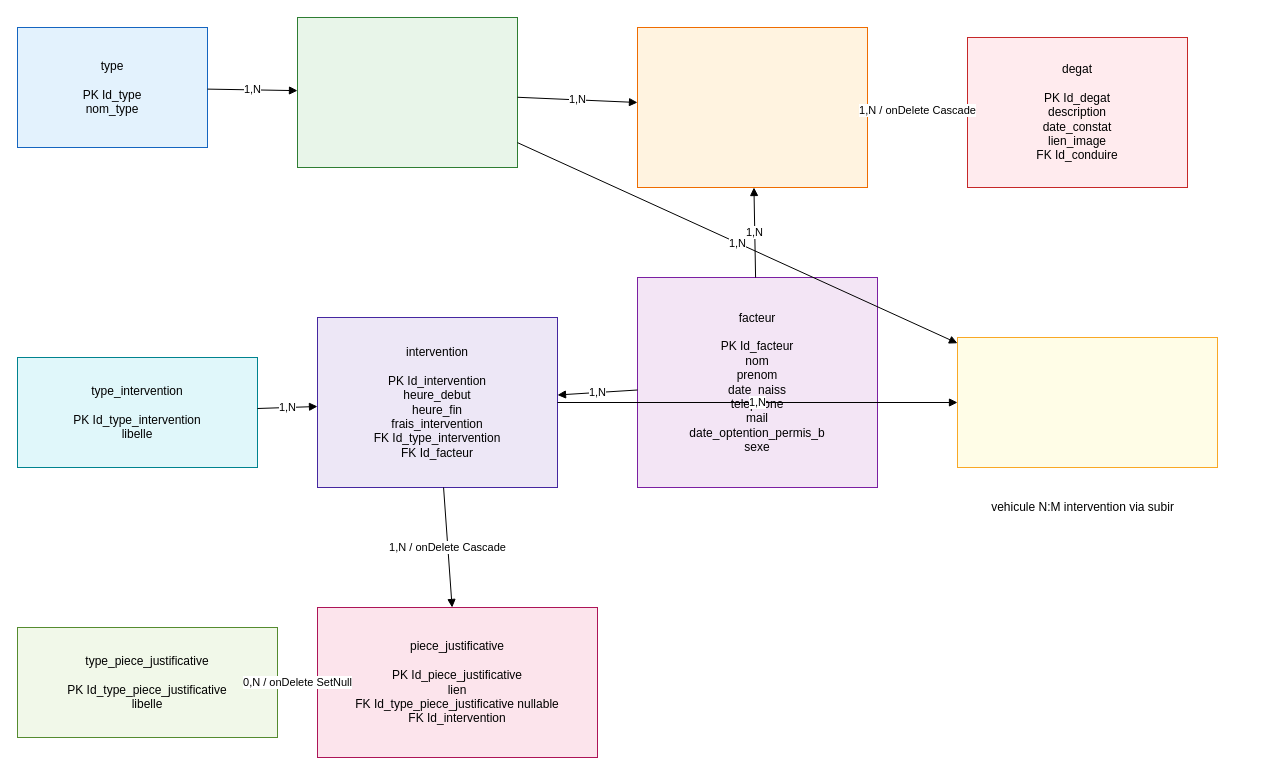
The diagram is 1265 pixels wide and 775 high, and some of its shapes have lost their labels. Here are the shapes that lost their labels. From the top down, the centre of each, then its label:
At point 407,92: "vehicule PK matricule nombre_porte num_chassis FK Id_type".
At point 752,107: "conduire PK Id_conduire FK matricule FK Id_facteur date_debut date_fin".
At point 1087,402: "subir PK matricule + Id_intervention FK matricule FK Id_intervention".
